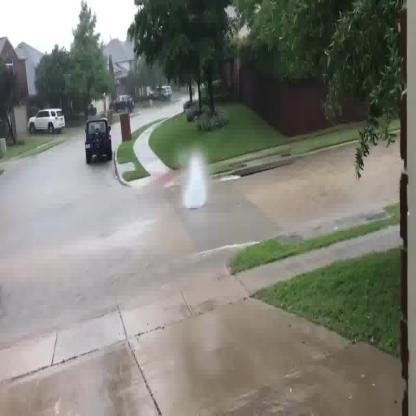drainage overflow-repair-: (172, 146, 216, 222)
